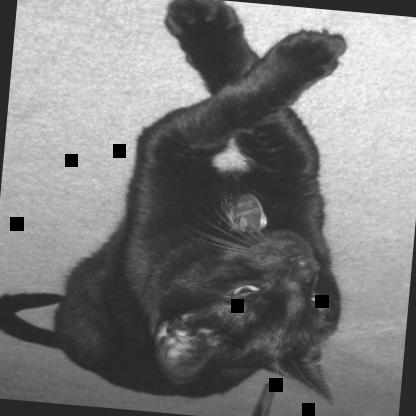cat: (0, 0, 372, 413)
